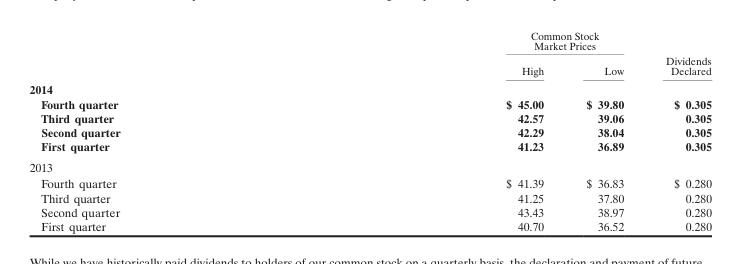table: (28, 28, 710, 233)
table column: (28, 28, 312, 233), (312, 28, 564, 233), (564, 28, 644, 233), (644, 28, 710, 233)
table column header: (28, 28, 710, 79)
table projected row header: (28, 156, 710, 174), (28, 79, 710, 96)
table row: (28, 28, 710, 57), (28, 57, 710, 79), (28, 138, 710, 156), (28, 156, 710, 174), (28, 79, 710, 96), (28, 174, 710, 190), (28, 204, 710, 219), (28, 96, 710, 110), (28, 110, 710, 124), (28, 124, 710, 138), (28, 190, 710, 204), (28, 219, 710, 233)
table spanning cell: (312, 28, 644, 57), (644, 28, 710, 79)
